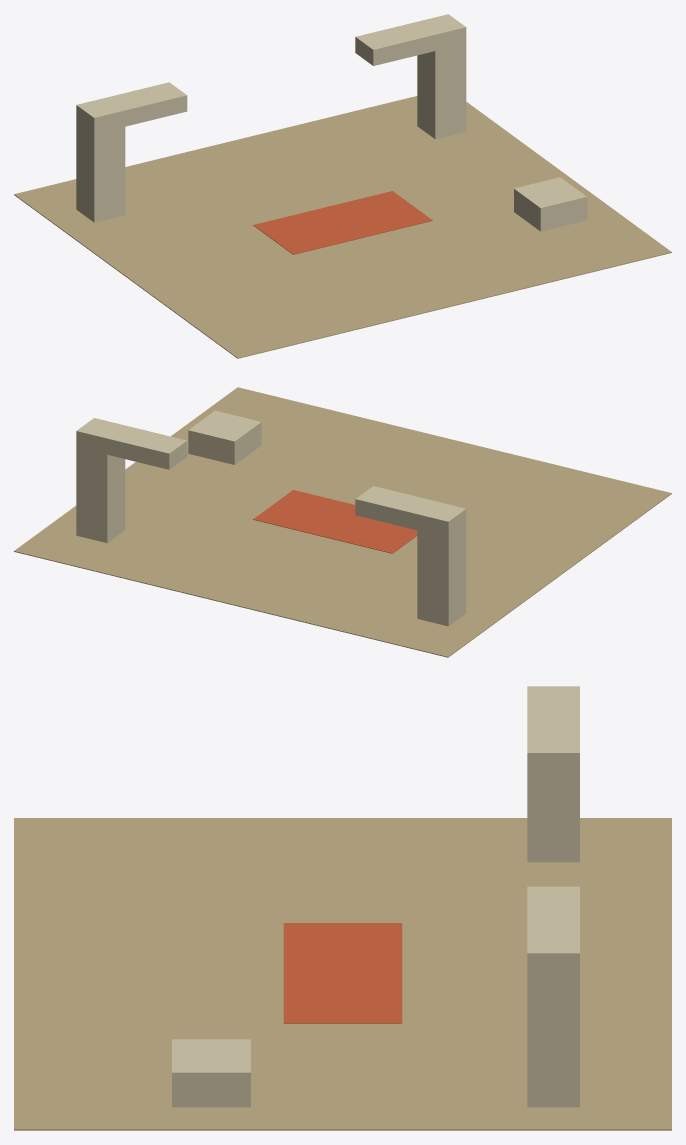
File: crown_road_crossroadskeeper.glb
3 renders of one model, top to bottom at view 1: azimuth 30°, elevation 25°; view 2: azimuth 150°, elevation 25°; view 3: azimuth 270°, elevation 25°, orthographic. The views are drawn at different scales.
Parts seen in each view (by area): view 1: crown_road_crossroadskeeper; view 2: crown_road_crossroadskeeper; view 3: crown_road_crossroadskeeper.
Boxes of the visible parts, x1,y1,x2,y2 form: crown_road_crossroadskeeper: [14, 14, 671, 358]; crown_road_crossroadskeeper: [14, 387, 671, 657]; crown_road_crossroadskeeper: [14, 686, 671, 1130].
Size of the model in its own units: 56 by 13 by 50.
